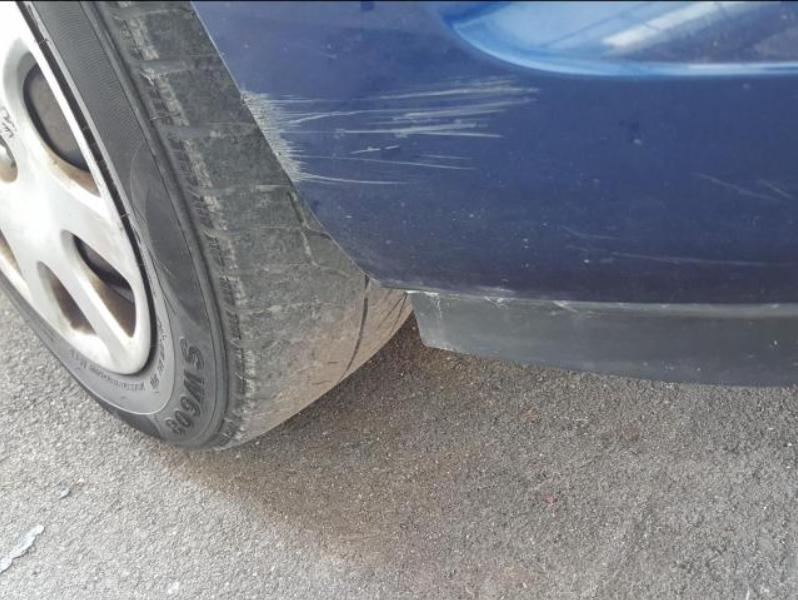Front-bumper: (192, 0, 796, 389)
Front-wheel: (1, 1, 412, 450)
